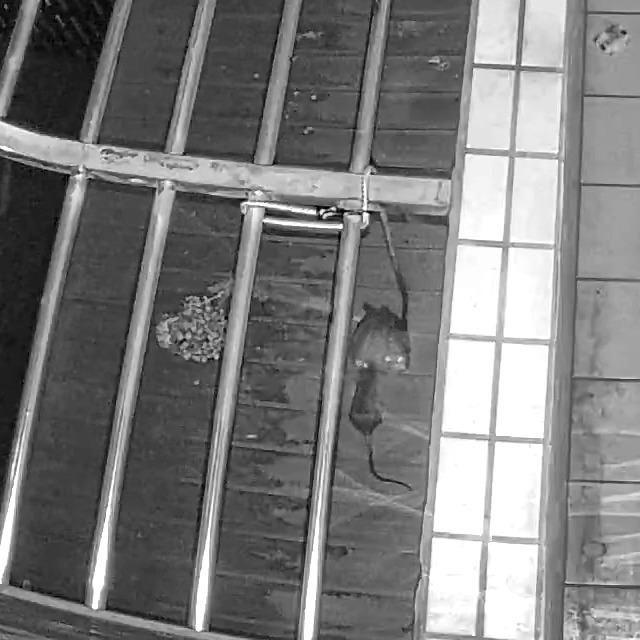rat: (350, 359, 414, 494)
